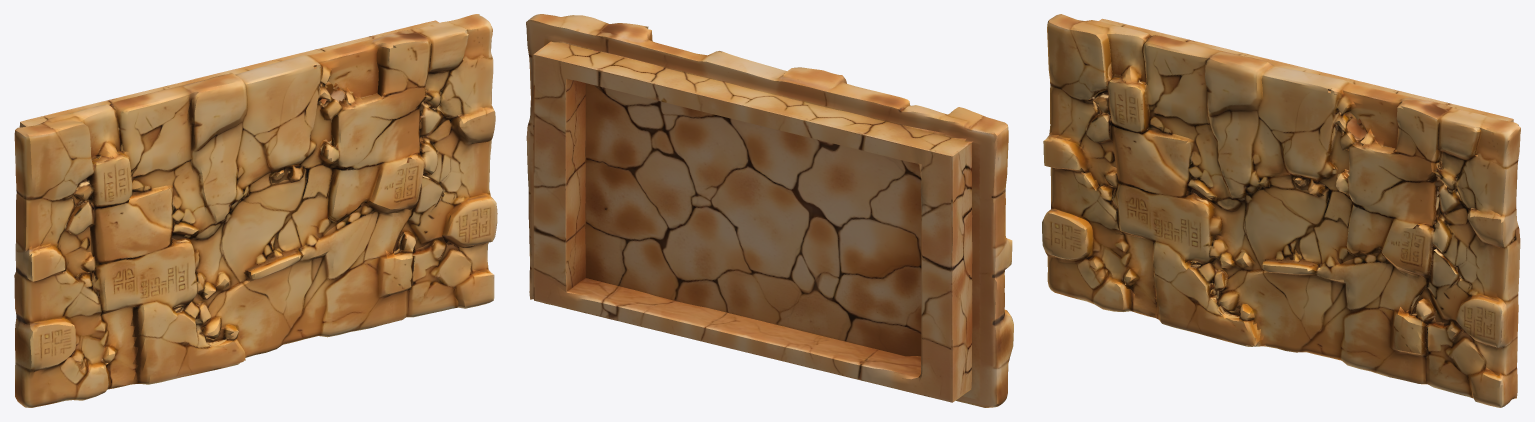
File: climbwall.fbx
3 views of the same model, side by side, from view 1: azimuth 30°, elevation 25°; view 2: azimuth 150°, elevation 25°; view 3: azimuth 330°, elevation 25° (orthographic).
Visible parts, largest first — view 1: Mesh0; view 2: Mesh0; view 3: Mesh0.
Part boxes in pixels (x1,y1,x2,y2): Mesh0: (14,14,497,407); Mesh0: (526,14,1013,407); Mesh0: (1042,14,1520,407).
Bounding box in the file's own units: 1719 × 1000 × 235.
Materials: 1 (1 with a texture image).
